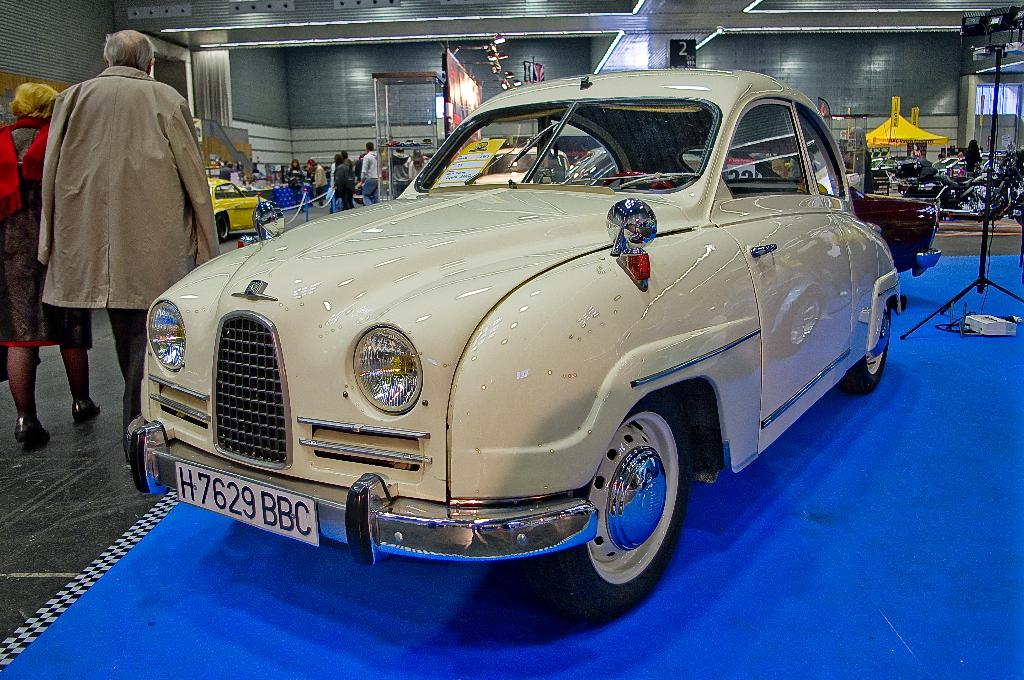person: (26, 28, 217, 445)
